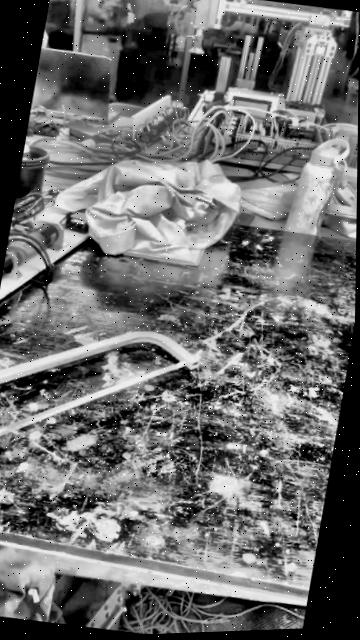pot: (176, 583, 306, 633), (14, 145, 47, 198)
